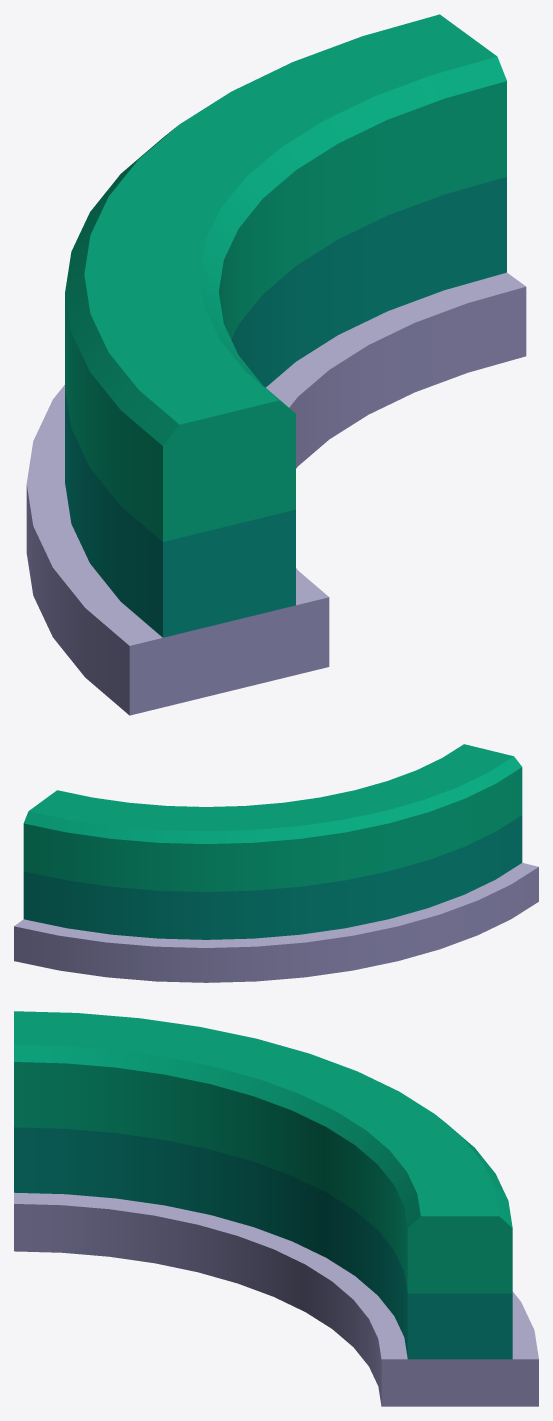
File: BarriereVegeTournant.fbx
The picture shows the model from 3 angles, top to bottom: view 1: azimuth 30°, elevation 25°; view 2: azimuth 150°, elevation 25°; view 3: azimuth 270°, elevation 25°; orthographic projection. The views are drawn at different scales.
Parts seen in each view (by area): view 1: mergedBlocks; view 2: mergedBlocks; view 3: mergedBlocks.
Part boxes in pixels (box(x1,y1,x2,y2)): mergedBlocks: box(26, 14, 526, 715); mergedBlocks: box(14, 744, 538, 982); mergedBlocks: box(14, 1011, 538, 1406).
Size of the model in its own units: 10 by 4 by 10.
